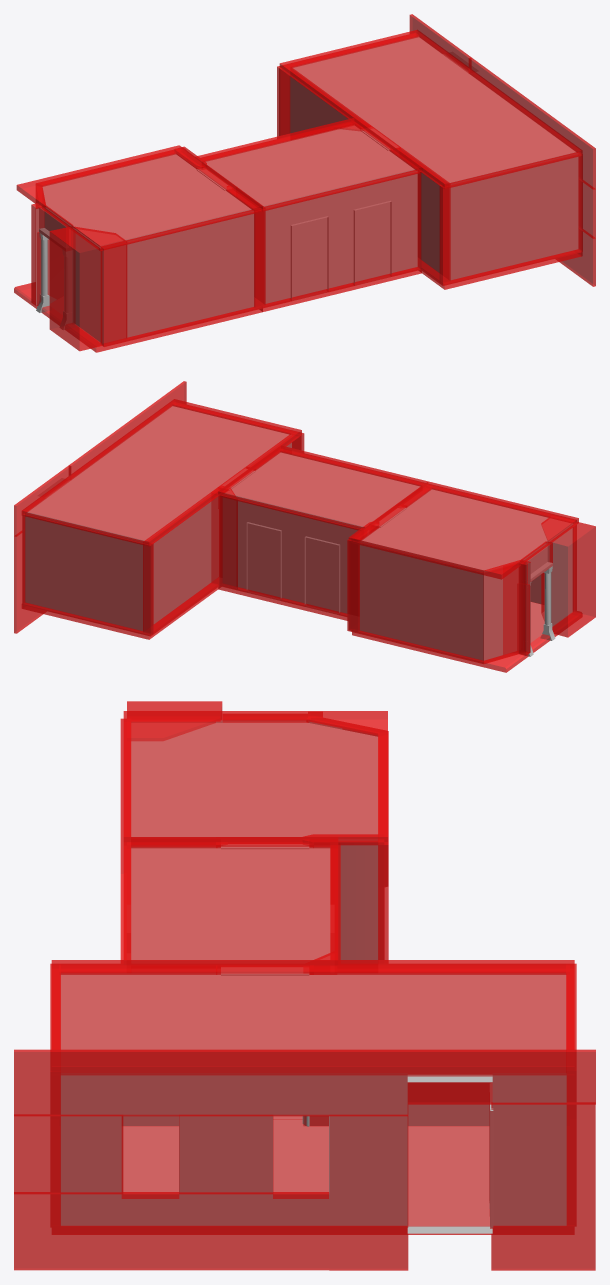
Rendered from CT_Interior_006.dae.
3 views of the same model, one above another, from view 1: azimuth 30°, elevation 25°; view 2: azimuth 150°, elevation 25°; view 3: azimuth 270°, elevation 25° (orthographic). The views are drawn at different scales.
Parts seen in each view (by area): view 1: colmesh-2, _006_int100; view 2: colmesh-2, _006_int100; view 3: colmesh-2, _006_int100.
Boxes of the visible parts, bbox=[...] form: colmesh-2: bbox=[14, 14, 595, 352]; _006_int100: bbox=[36, 36, 578, 343]; colmesh-2: bbox=[14, 381, 595, 672]; _006_int100: bbox=[25, 406, 572, 660]; colmesh-2: bbox=[14, 701, 595, 1270]; _006_int100: bbox=[61, 720, 566, 1233].
Size of the model in its own units: 170 by 45.8 by 110.
